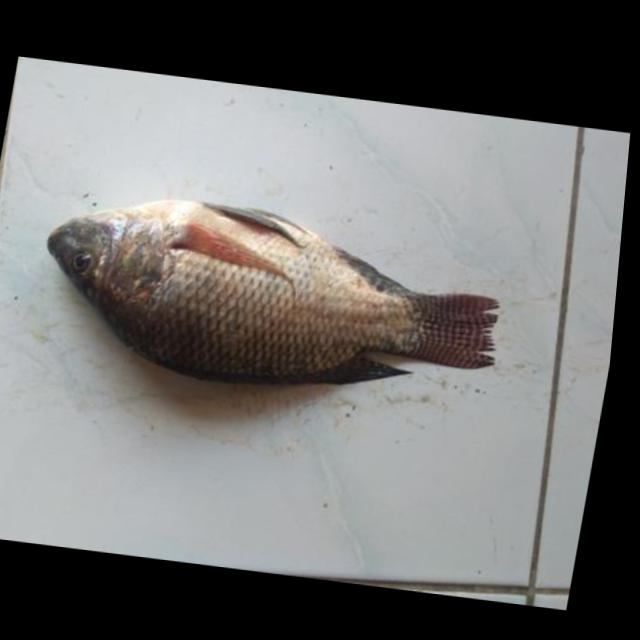Tilapia: (20, 175, 520, 418)
